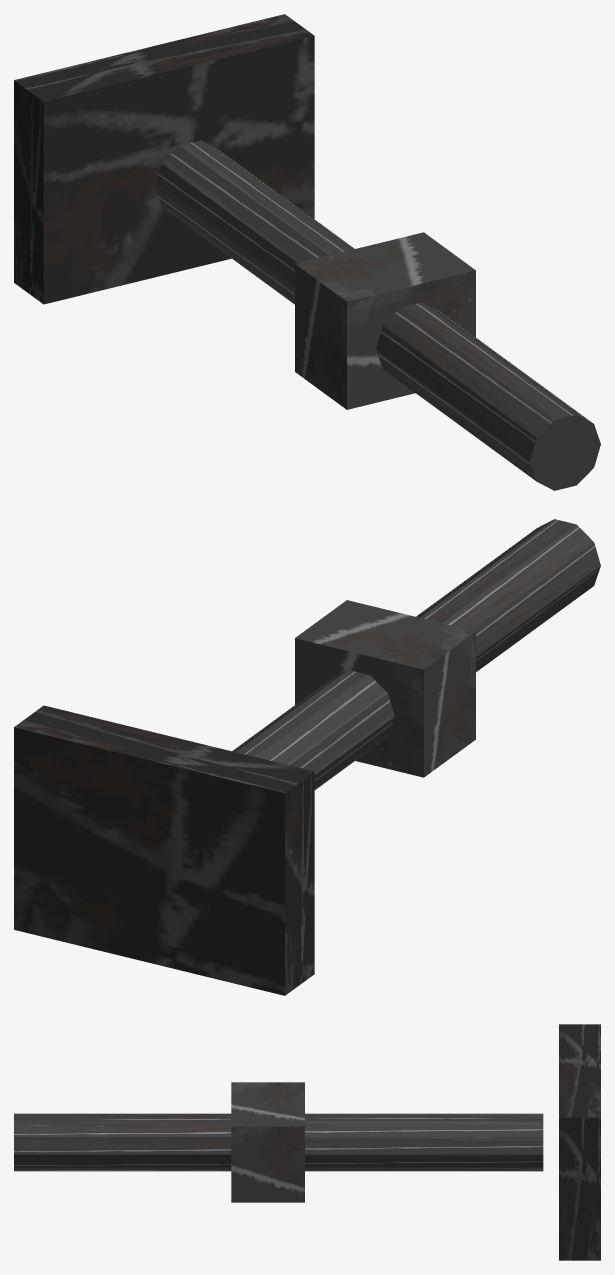
File: SM_Fighter_GearN.obj
3 renders of one model, top to bottom at view 1: azimuth 30°, elevation 25°; view 2: azimuth 150°, elevation 25°; view 3: azimuth 270°, elevation 25°, orthographic. The views are drawn at different scales.
Visible parts, largest first — view 1: SM_Fighter_GearN; view 2: SM_Fighter_GearN; view 3: SM_Fighter_GearN.
Boxes of the visible parts, x1=… form: SM_Fighter_GearN: x1=14, y1=14, x2=600, y2=490; SM_Fighter_GearN: x1=14, y1=519, x2=600, y2=995; SM_Fighter_GearN: x1=14, y1=1024, x2=600, y2=1260.
Bounding box in the file's own units: 58.8 × 42 × 156.
1 material, 1 textured.
